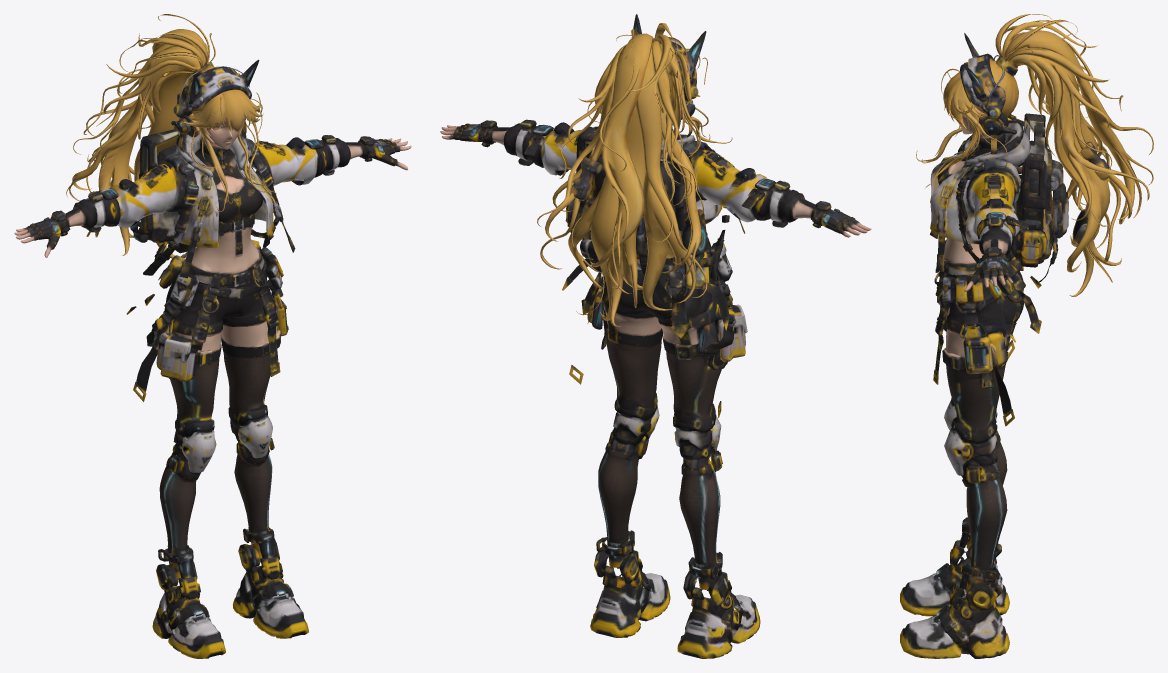
File: sora.glb
3 renders of one model, left to right at view 1: azimuth 30°, elevation 25°; view 2: azimuth 150°, elevation 25°; view 3: azimuth 270°, elevation 25°, orthographic. The views are drawn at different scales.
Parts seen in each view (by area): view 1: tripo_4f1b9609_237c_45a4_96ba_2684a0204b2f; view 2: tripo_4f1b9609_237c_45a4_96ba_2684a0204b2f; view 3: tripo_4f1b9609_237c_45a4_96ba_2684a0204b2f.
Part boxes in pixels (<box>): tripo_4f1b9609_237c_45a4_96ba_2684a0204b2f: <box>14,14,411,658</box>; tripo_4f1b9609_237c_45a4_96ba_2684a0204b2f: <box>440,14,871,658</box>; tripo_4f1b9609_237c_45a4_96ba_2684a0204b2f: <box>900,14,1153,658</box>.
Size of the model in its own units: 0.7017 by 0.9995 by 0.3804.
Materials: 1 (1 with a texture image).
